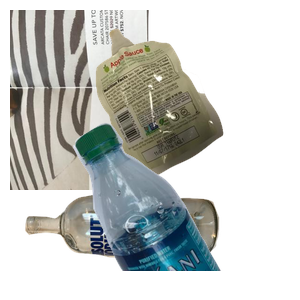glass: (22, 192, 234, 300)
paper: (10, 10, 250, 190)
plastic: (71, 120, 300, 300)
trash: (93, 26, 300, 200)
